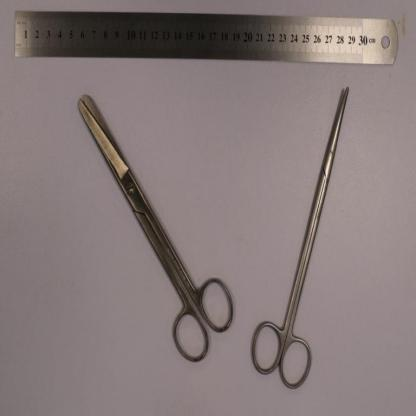7 Metzenbaum Scissors: (252, 87, 350, 392)
Dressing Scissors: (78, 93, 235, 364)
